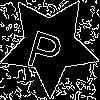P: (24, 20, 67, 74)
